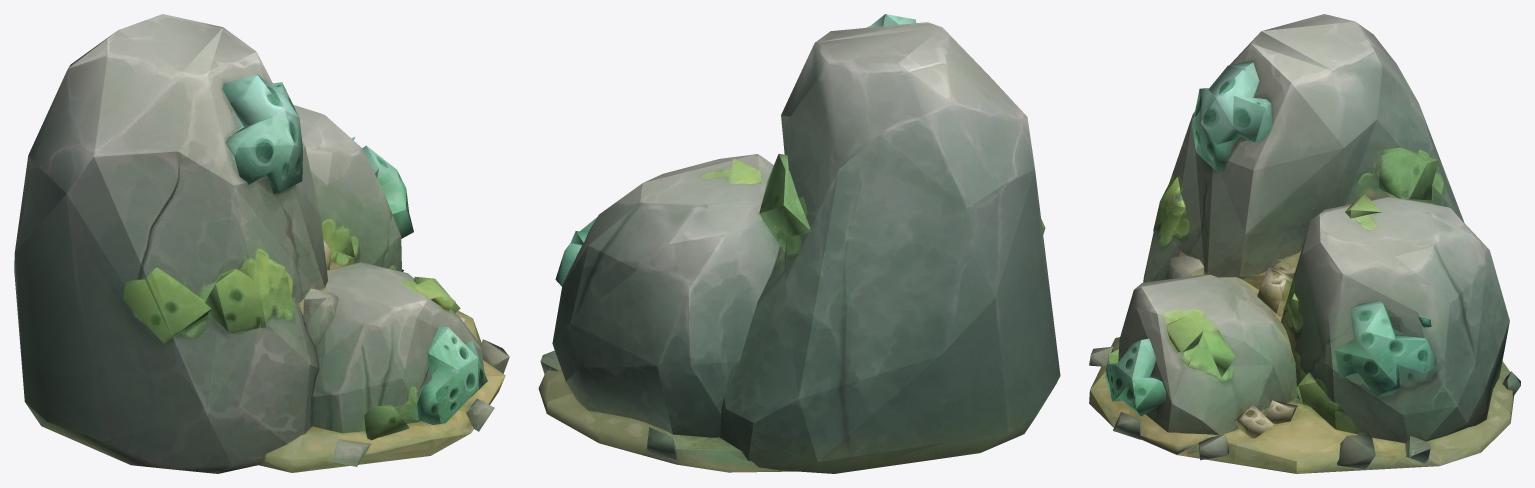
Rendered from Reef_Cluster.glb.
The picture shows the model from 3 angles, left to right: view 1: azimuth 30°, elevation 25°; view 2: azimuth 150°, elevation 25°; view 3: azimuth 270°, elevation 25°; orthographic projection. The views are drawn at different scales.
Visible parts, largest first — view 1: mesh_node; view 2: mesh_node; view 3: mesh_node.
Part boxes in pixels (x1,y1,x2,y2): mesh_node: [14, 14, 509, 473]; mesh_node: [538, 14, 1060, 473]; mesh_node: [1089, 14, 1520, 473].
Bounding box in the file's own units: 1 × 0.8066 × 1.
Materials: 1 (1 with a texture image).
